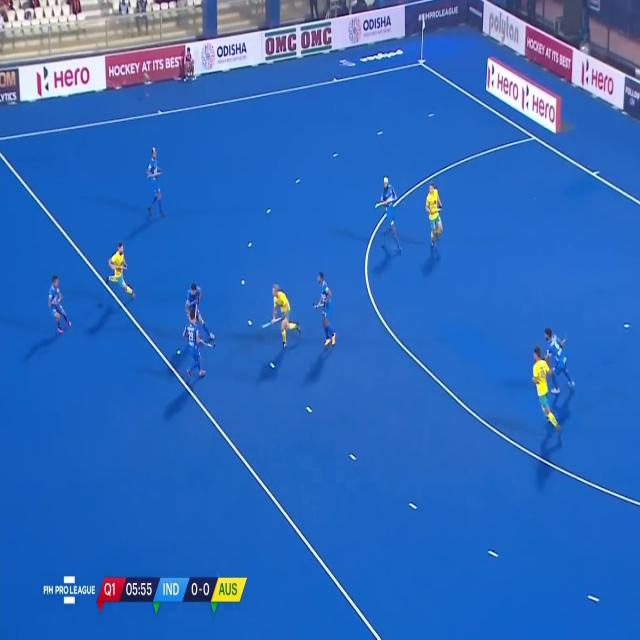ball: (176, 345, 181, 357)
